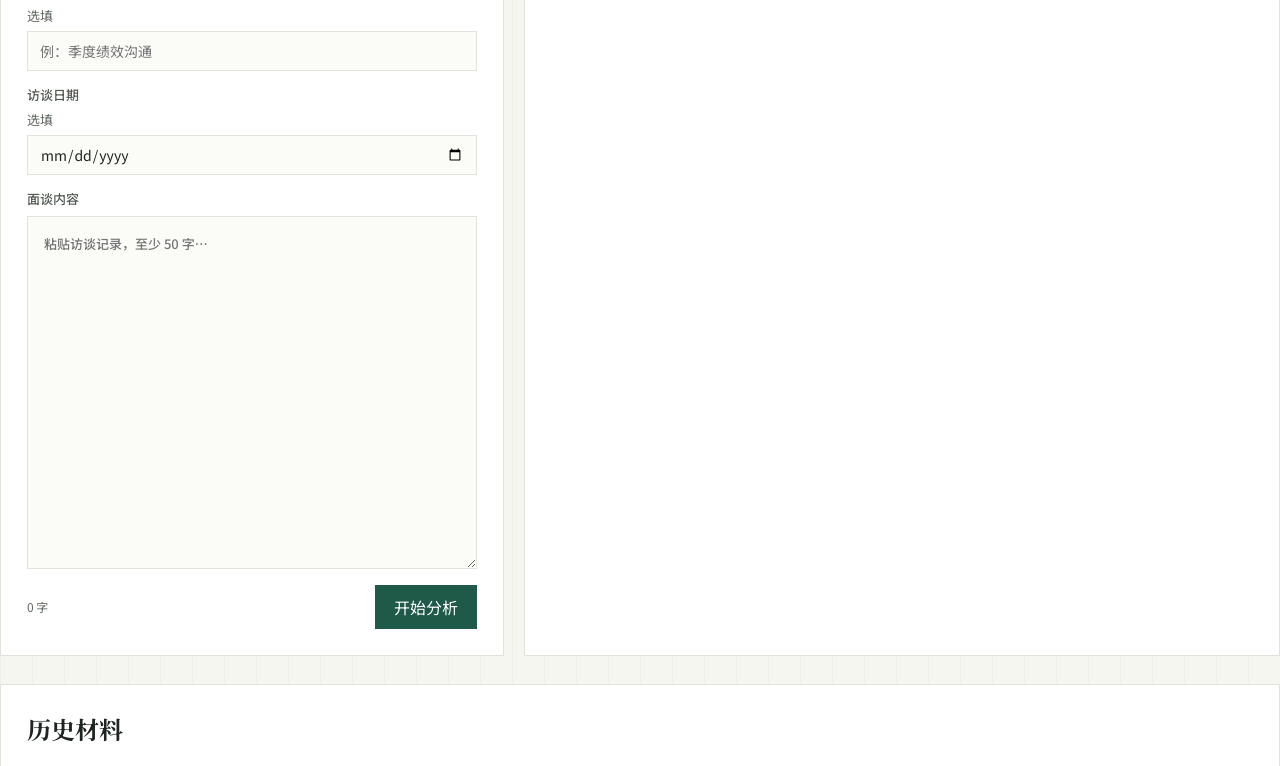
it: blocks interview analysis shorter than 50 characters
(page scrolled)
Type "太短" into the text box labelled "面谈内容".
click(252, 392); type("太短")  # box [27,216,477,569]
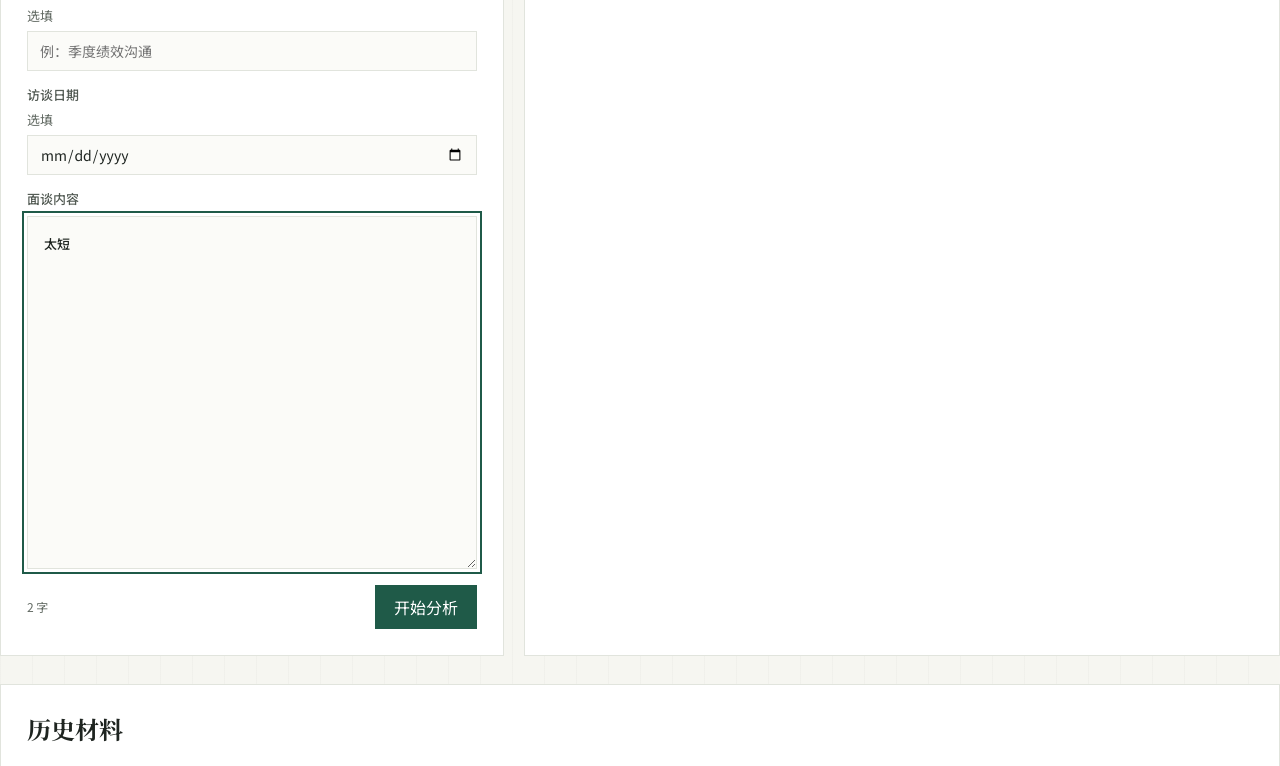
Click the button "开始分析".
click(426, 607)  # box [375,585,477,629]
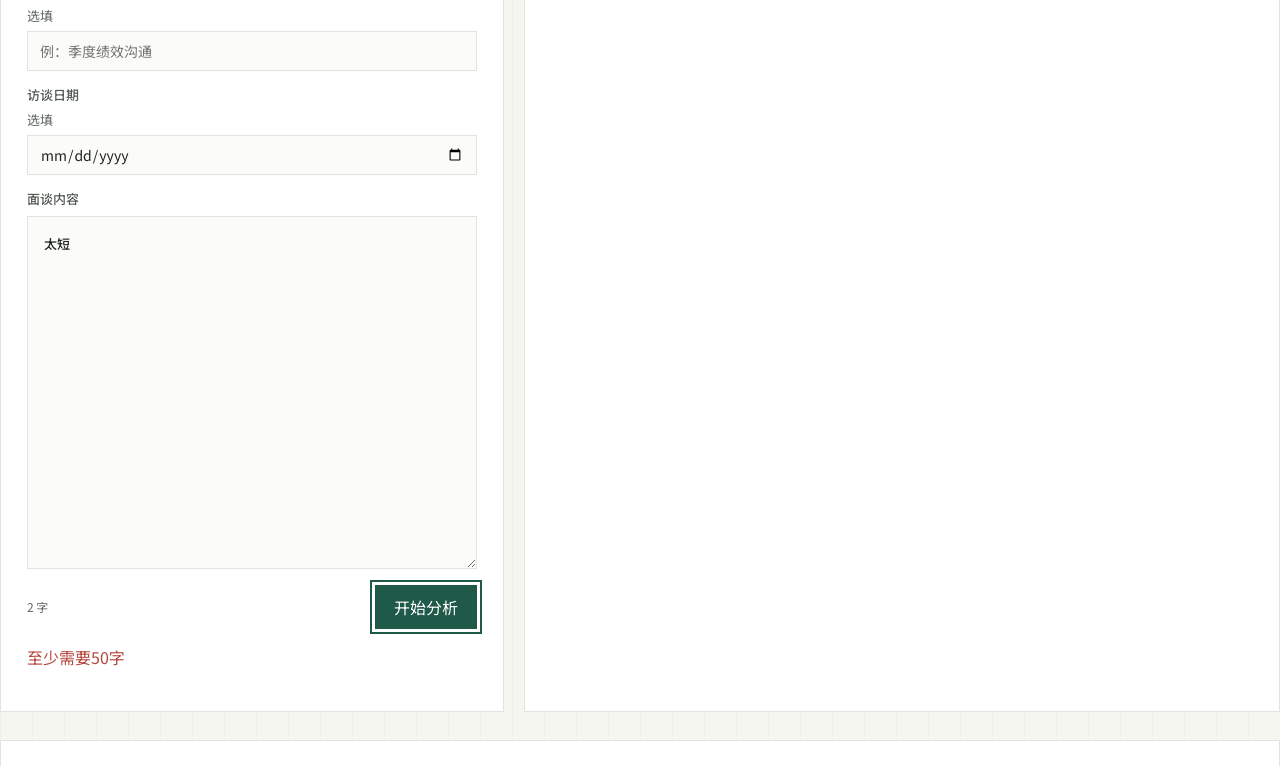
Expected: the message reads "至少需要50字", [27,645,125,669]
